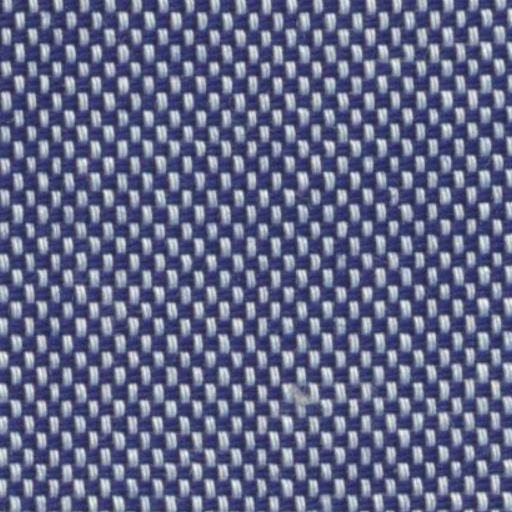MianQiu: (276, 359, 338, 422)
